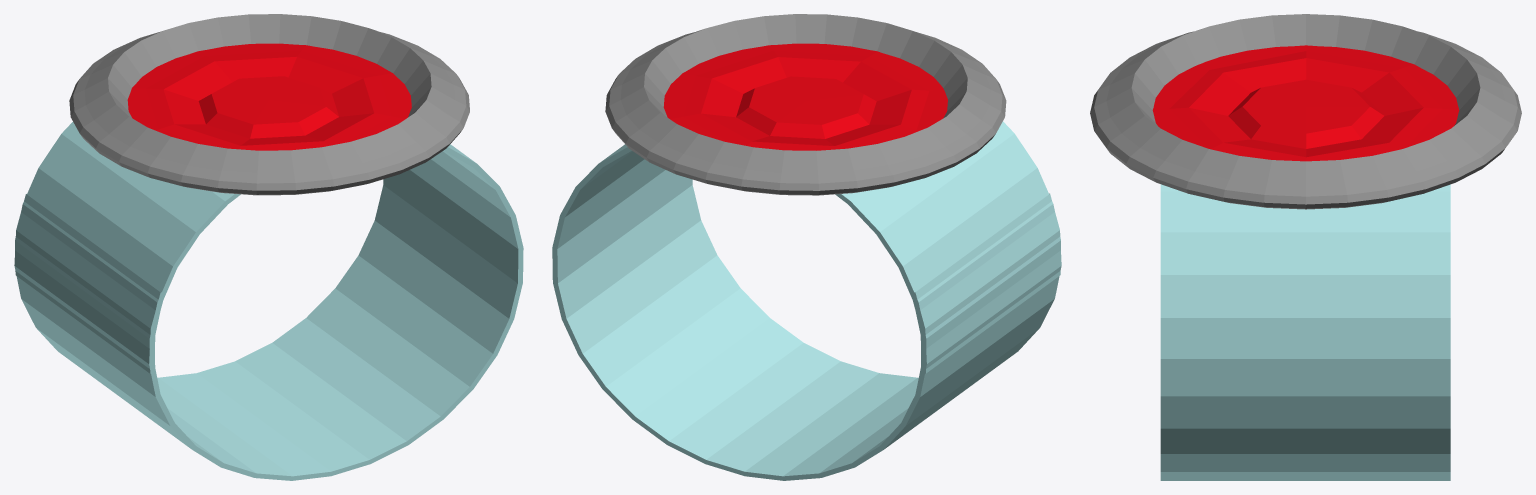
File: watch.fbx
3 renders of one model, left to right at view 1: azimuth 30°, elevation 25°; view 2: azimuth 150°, elevation 25°; view 3: azimuth 270°, elevation 25°, orthographic. The views are drawn at different scales.
Visible parts, largest first — view 1: Plane, Sphere, Sphere.001; view 2: Plane, Sphere, Sphere.001; view 3: Plane, Sphere, Sphere.001.
Boxes of the visible parts, <box> form: Plane: <box>14,122,523,480</box>; Sphere: <box>69,14,469,195</box>; Sphere.001: <box>127,43,411,150</box>; Plane: <box>552,121,1061,480</box>; Sphere: <box>605,14,1006,195</box>; Sphere.001: <box>663,43,947,150</box>; Plane: <box>1160,184,1450,480</box>; Sphere: <box>1090,14,1521,209</box>; Sphere.001: <box>1152,45,1459,161</box>.
Bounding box in the file's own units: 22.38 × 19.59 × 20.8.
